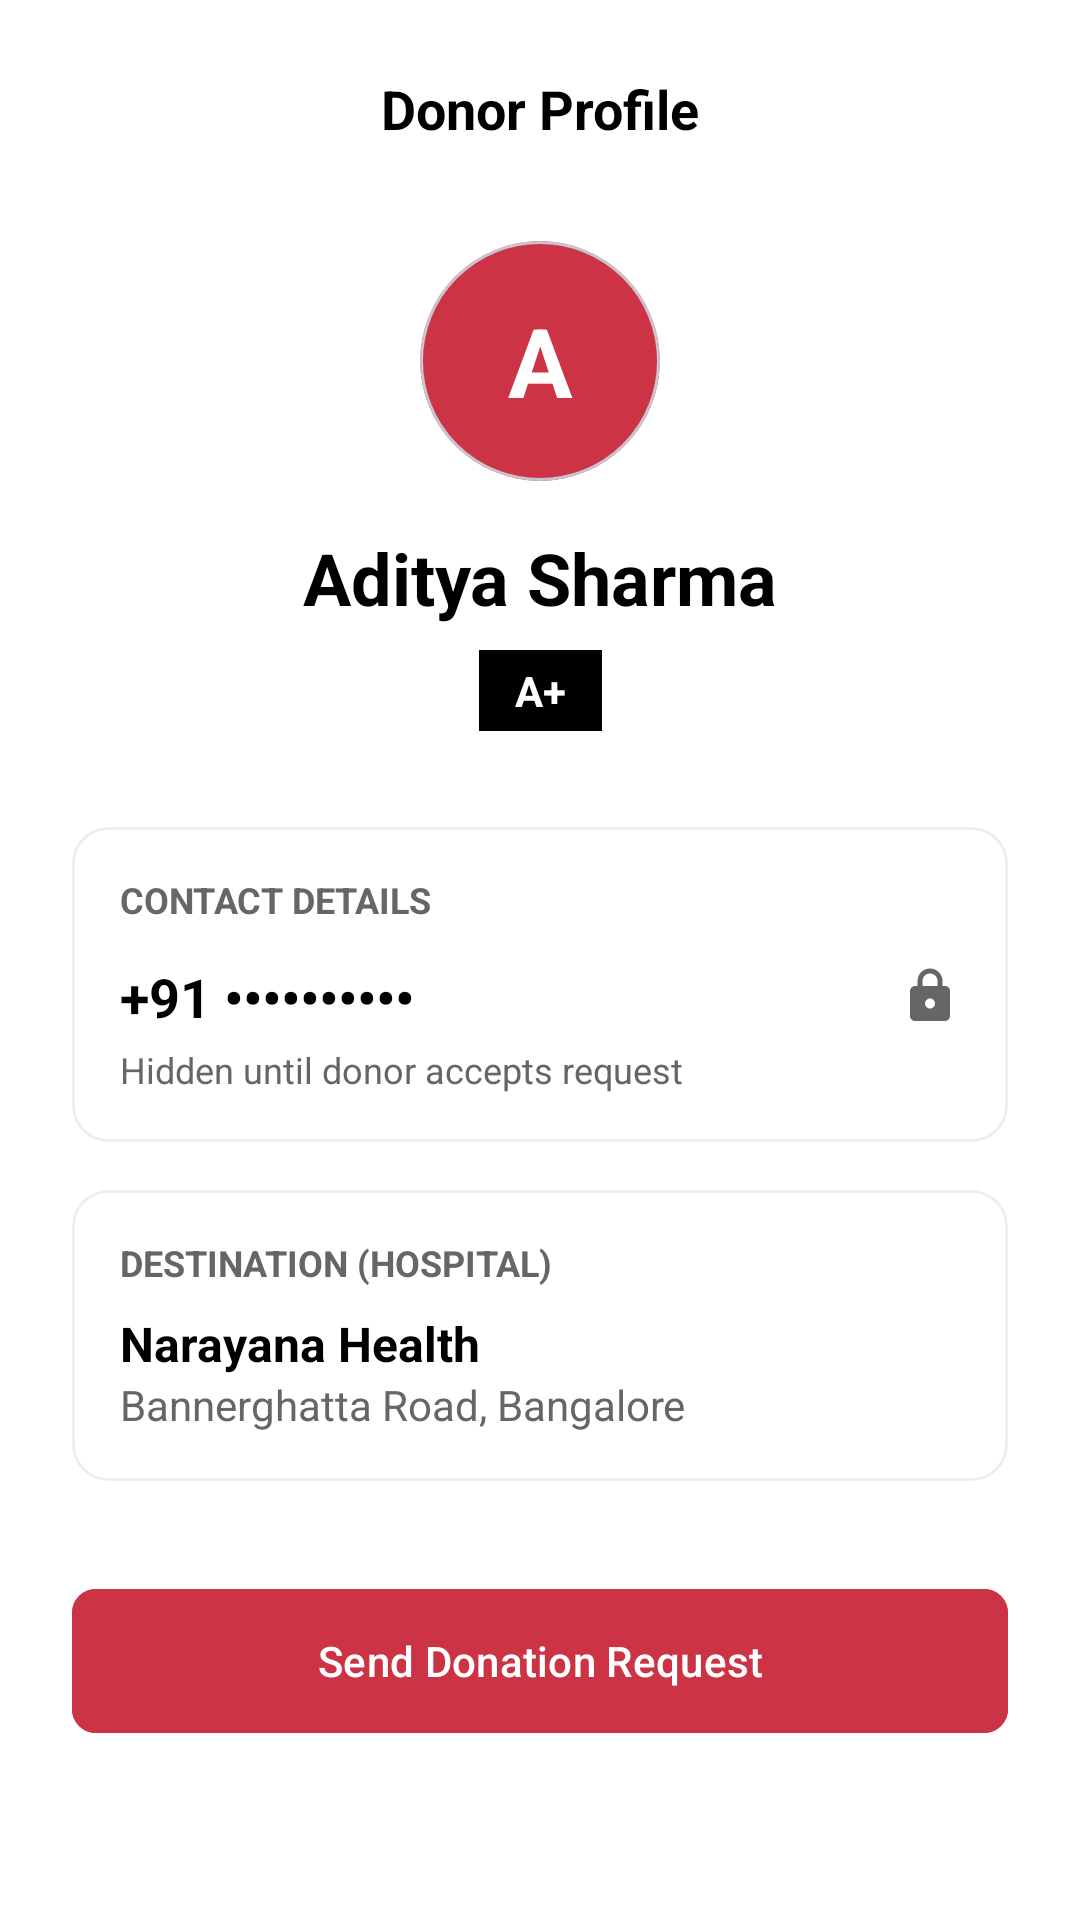

Icon bounding boxes for this 1080×1920 phone screenshot, format Rect(x1, y1, x2, y2):
Locked: Rect(910, 968, 950, 1021)
